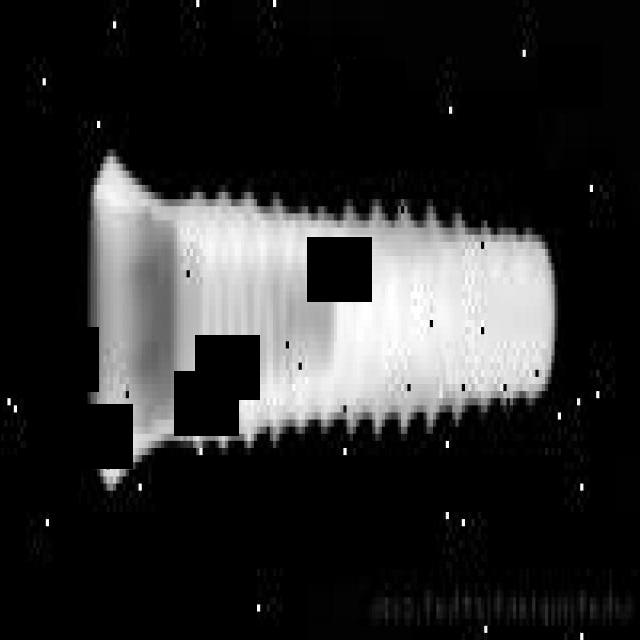Titan Implant Implant: (84, 141, 564, 491)
